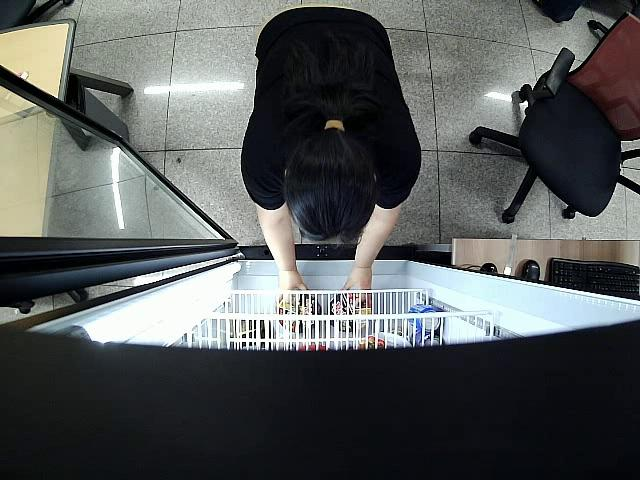00_hand: (343, 270, 373, 307), (275, 271, 308, 303)
07_buldak_L: (278, 294, 315, 335), (331, 291, 369, 330)
